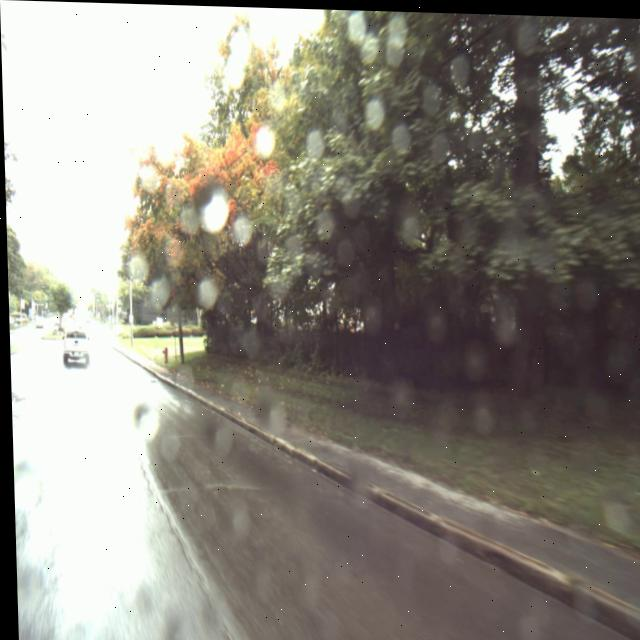car: (61, 330, 88, 368)
